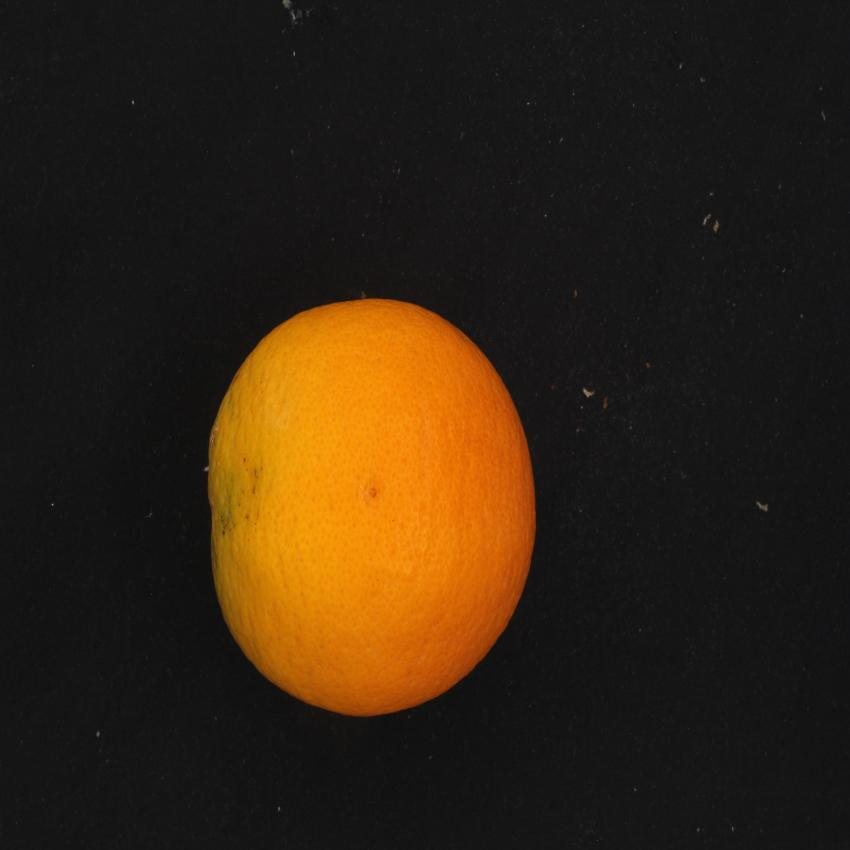Buen estado: (191, 284, 550, 732)
